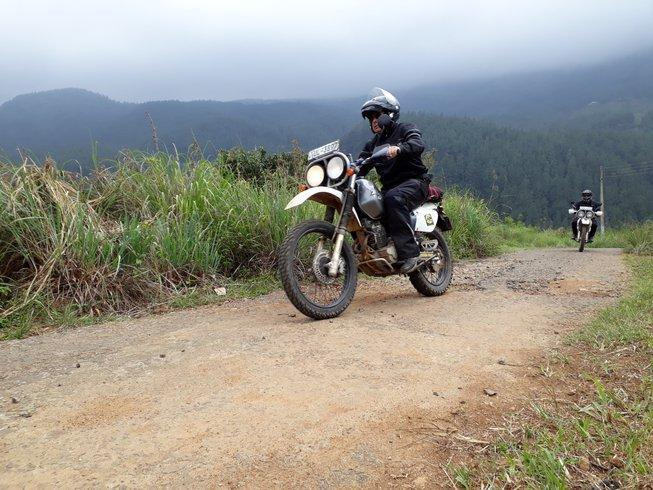motorbike: (277, 115, 454, 320), (568, 200, 602, 253)
